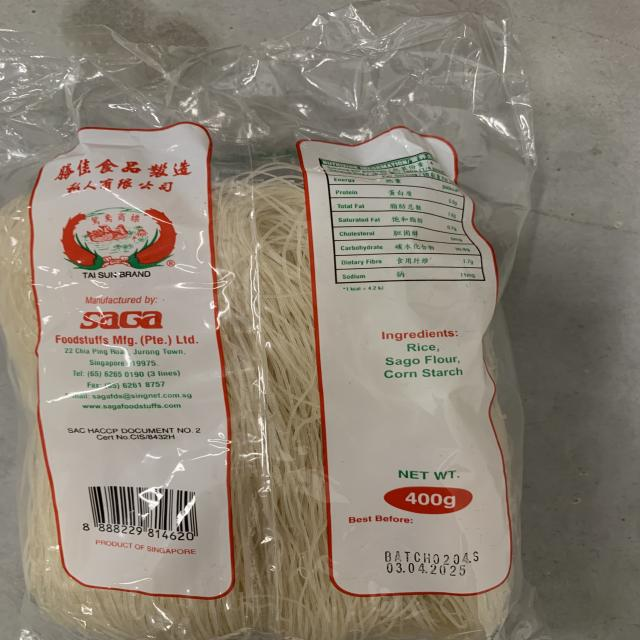object_name: (7, 78, 515, 640)
